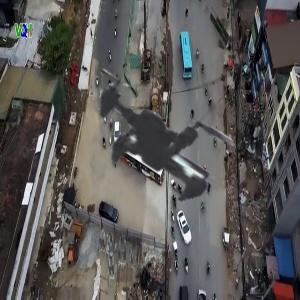drone: (11, 14, 291, 294)
